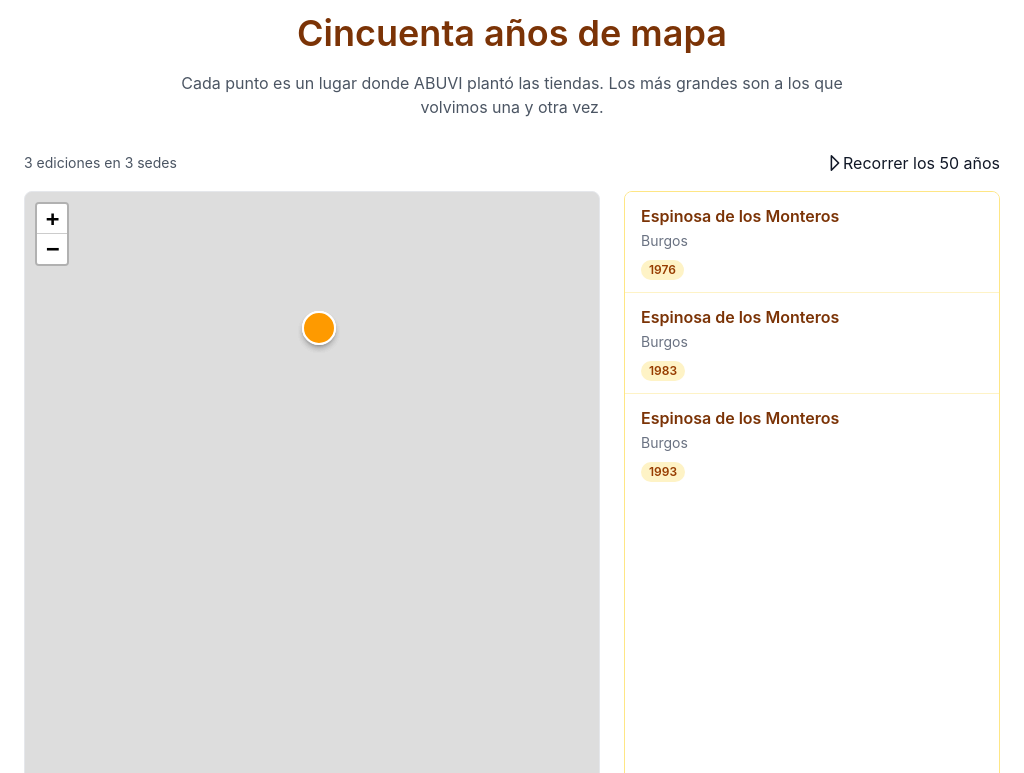
Test: AnniversaryJourney › presentation mode › stops when the user picks a year themselves
Click the button "Recorrer los 50 años" at point(914, 163), box left=827, top=151, right=1000, bottom=175
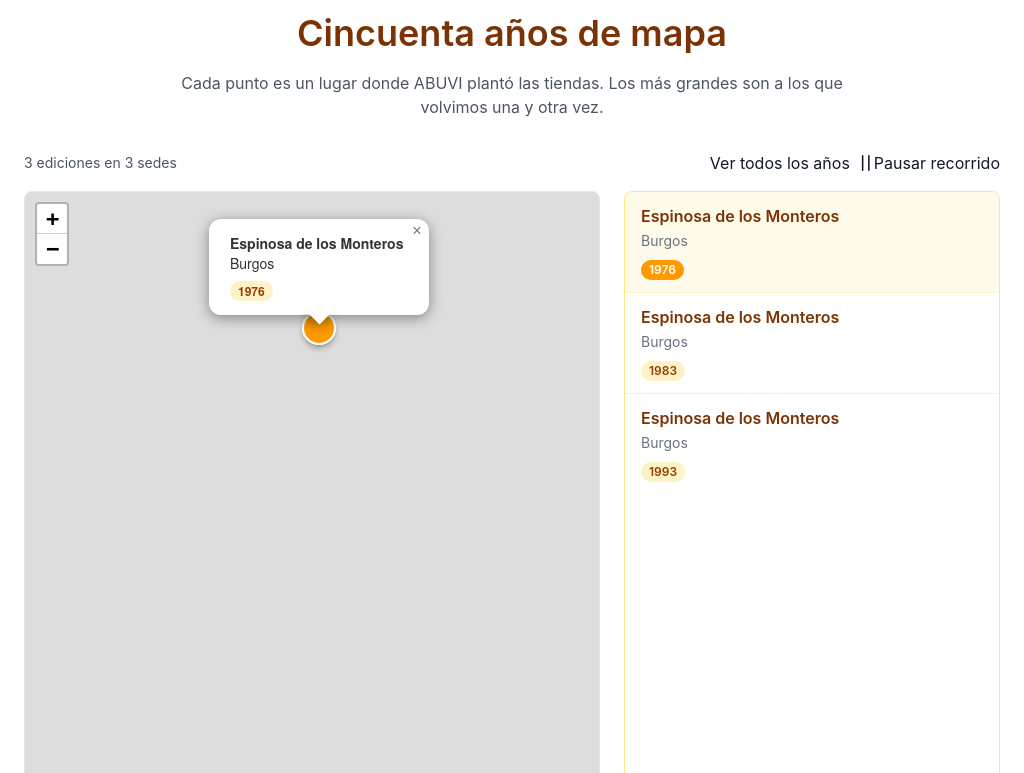
Click the button "1983" at point(663, 371), box left=641, top=361, right=685, bottom=381
Wait 10000 ms
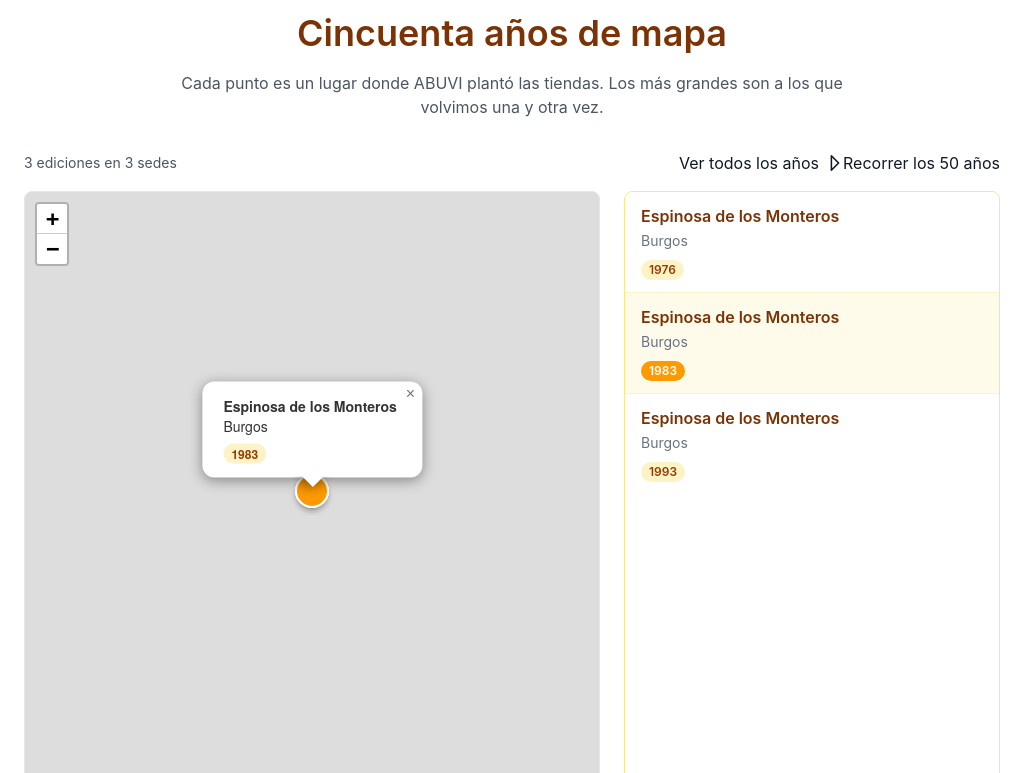
Expected: the text "Recorrer los 50 años" is shown, left=843, top=151, right=1000, bottom=175
